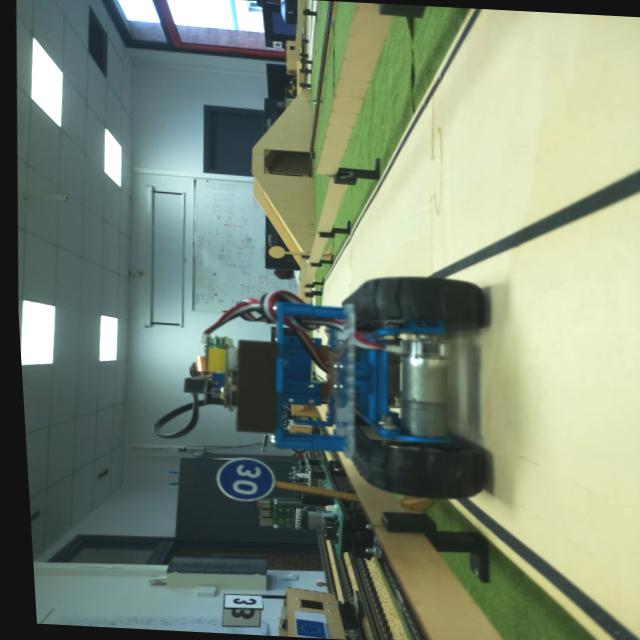obstacle_voiture: (147, 254, 504, 503)
panneau-limitation30: (204, 454, 275, 506)
